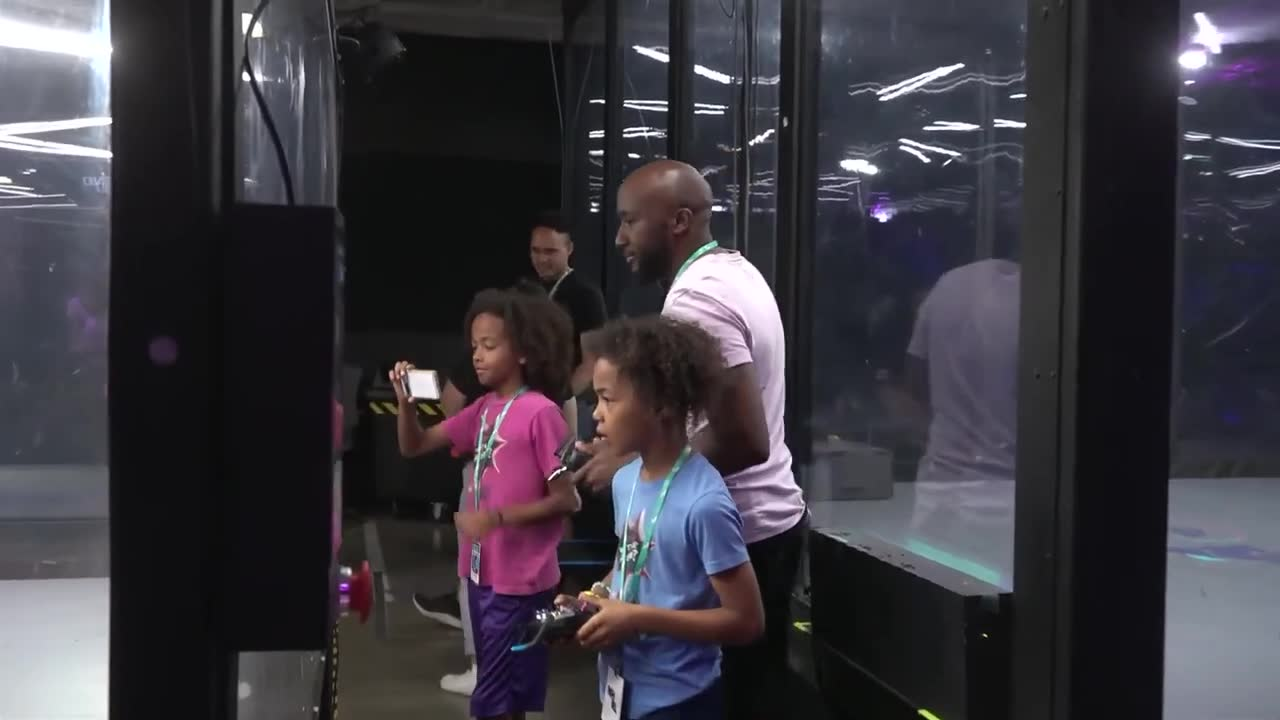housebot: (813, 440, 892, 505)
